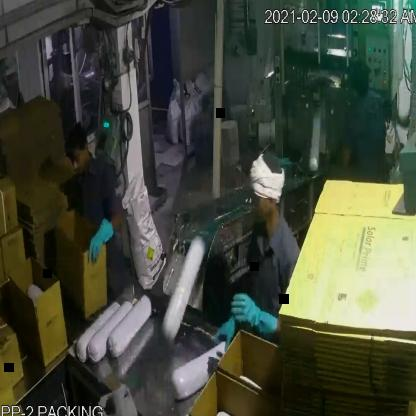glove: (228, 287, 284, 349), (86, 208, 114, 268), (215, 306, 245, 355)
